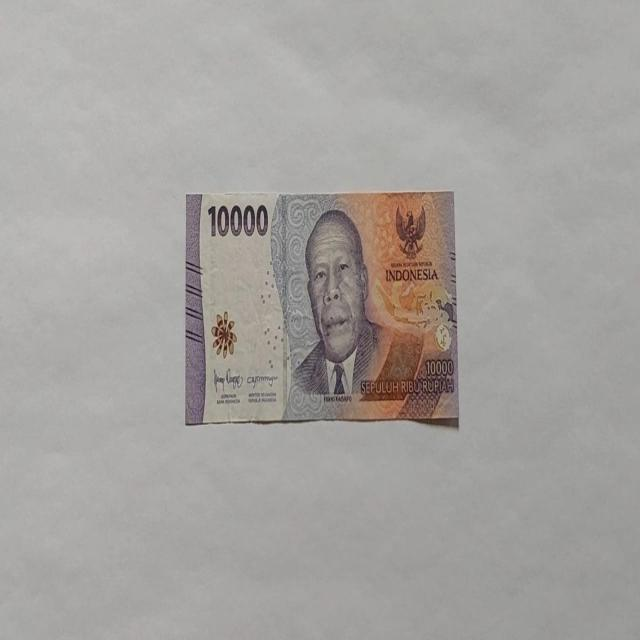Kertas: (185, 188, 459, 426), (207, 201, 269, 239)
